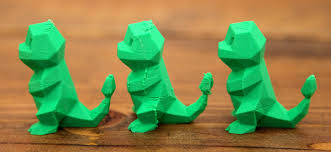blob: (137, 69, 150, 88), (150, 104, 160, 123)
